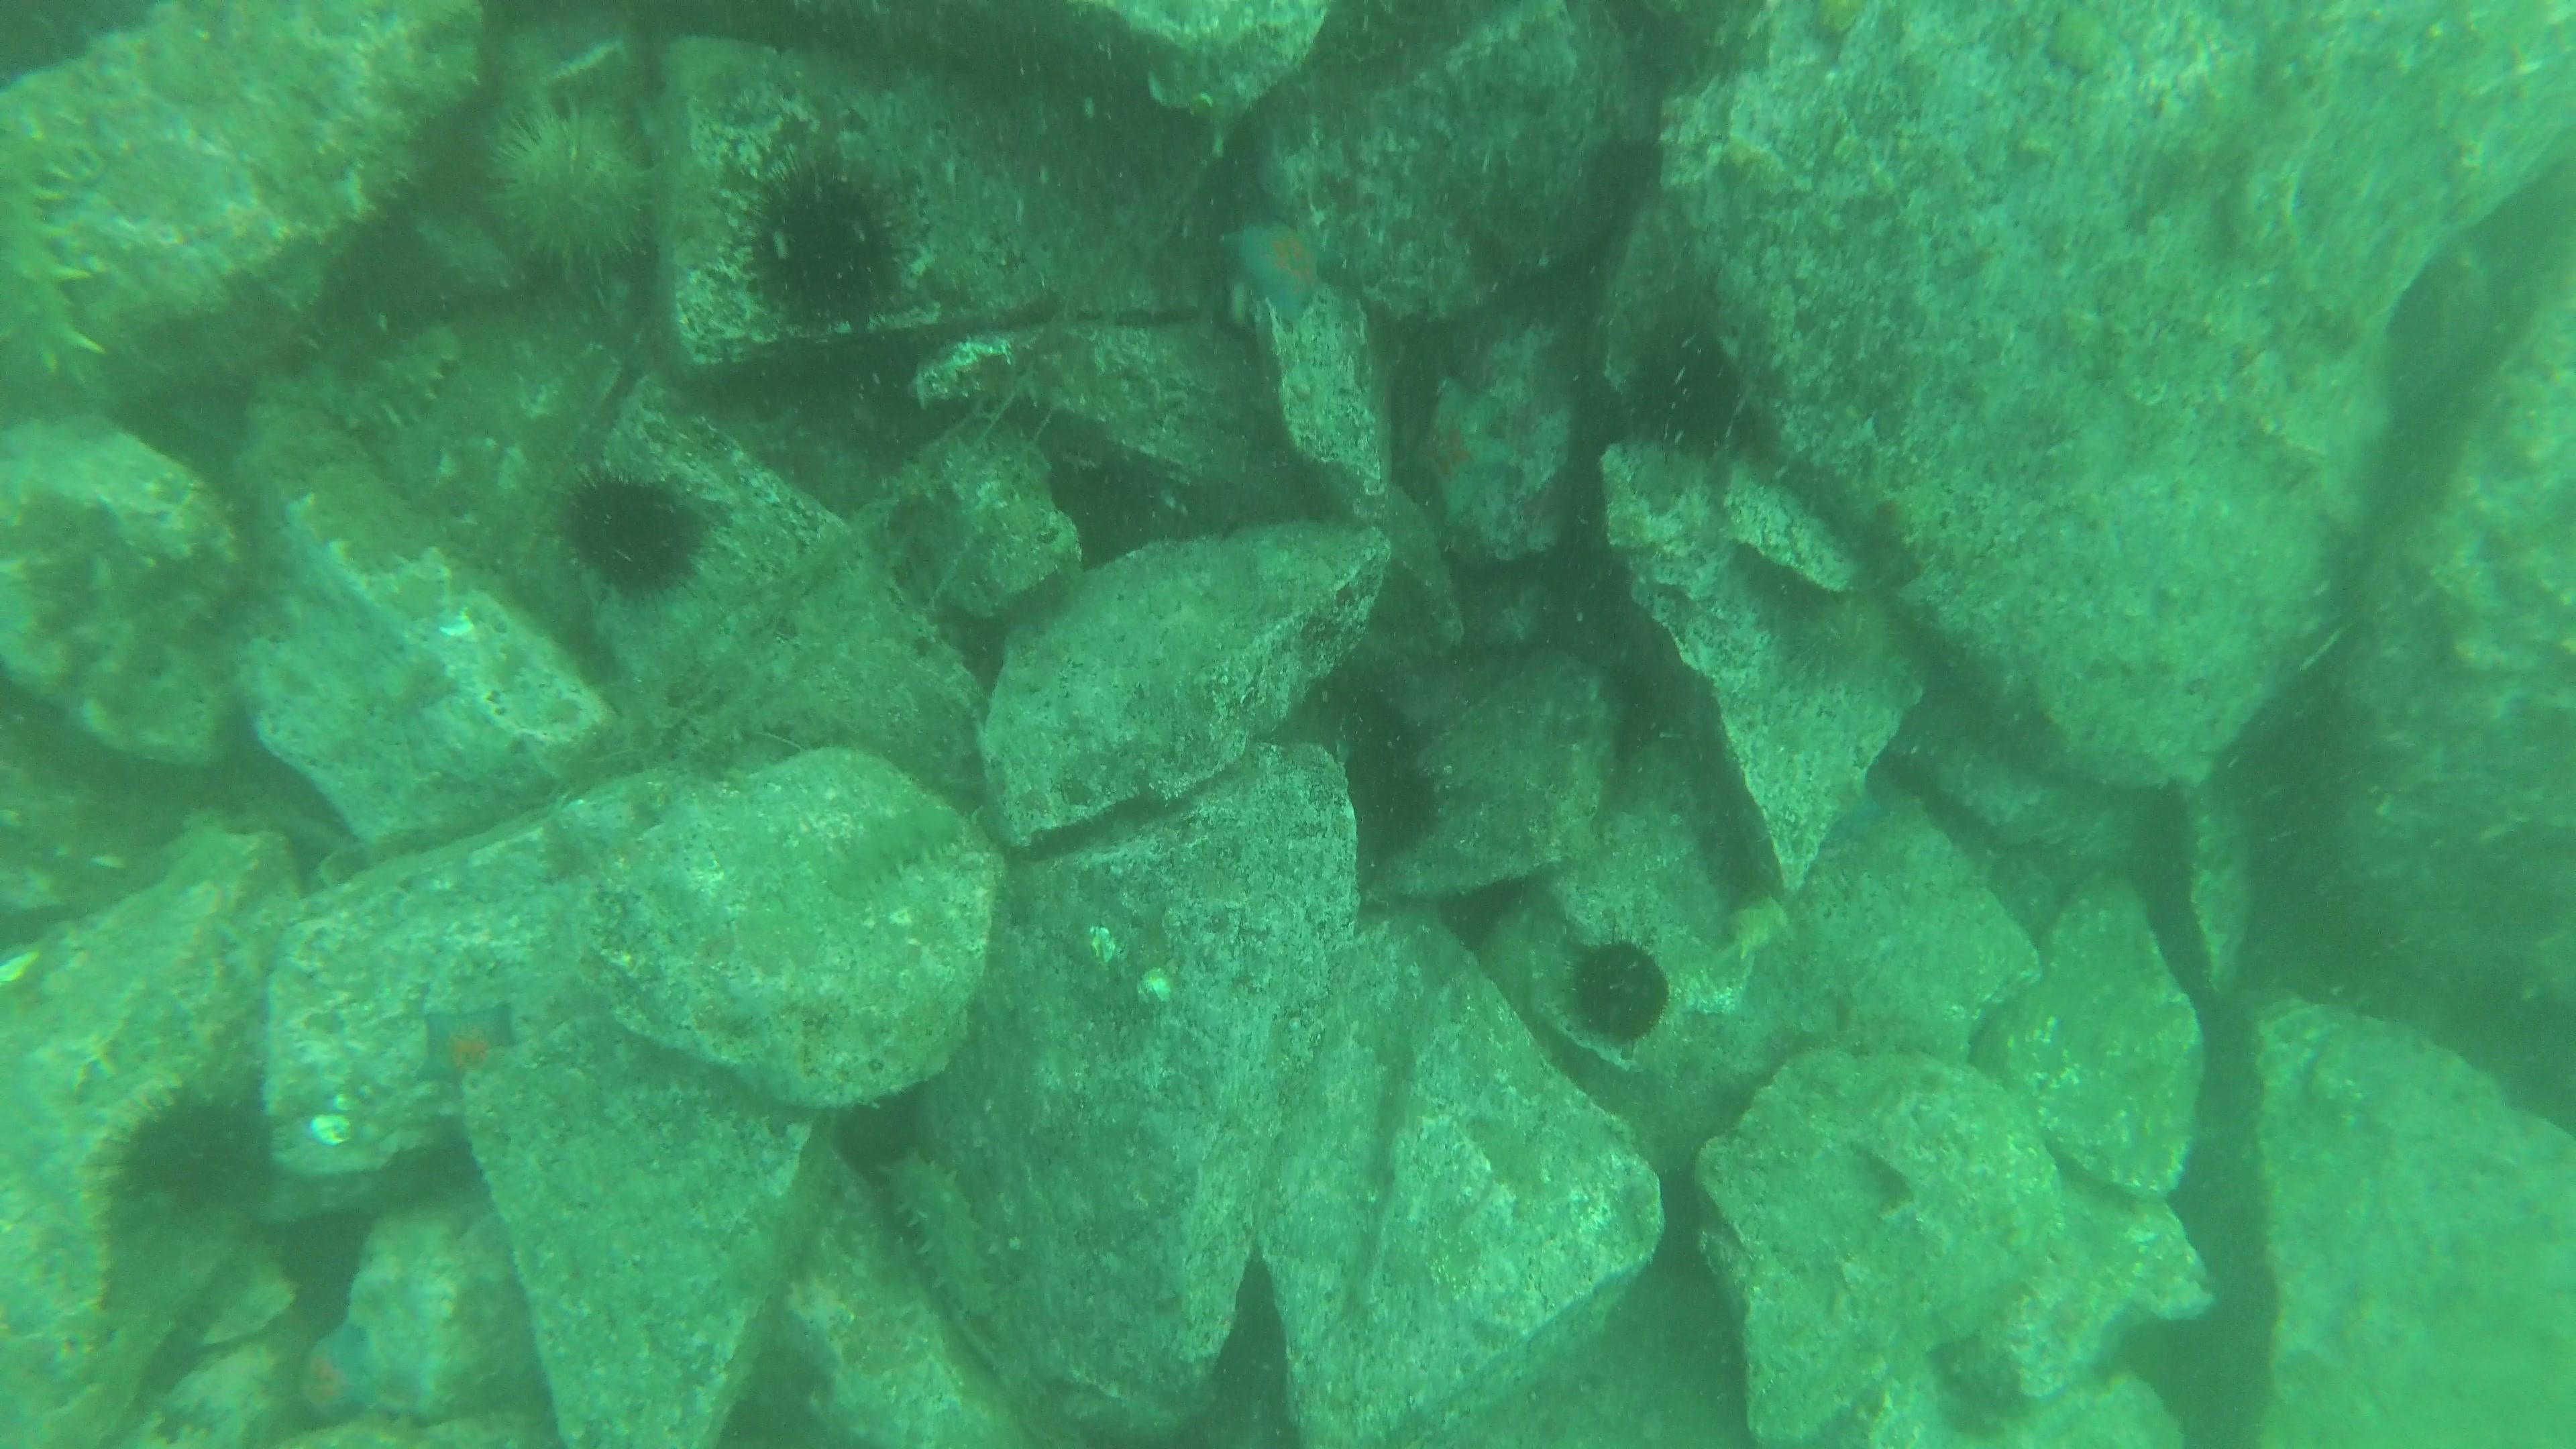echinus: (711, 122, 939, 350), (460, 85, 671, 317), (525, 471, 732, 610), (90, 1092, 269, 1244), (1633, 306, 1769, 472), (1557, 915, 1684, 1070), (1334, 757, 1456, 865)
holothurian: (0, 124, 111, 384), (867, 1146, 1012, 1329), (805, 801, 985, 915), (333, 331, 467, 448)
starfish: (410, 994, 525, 1097), (287, 1316, 384, 1431)
